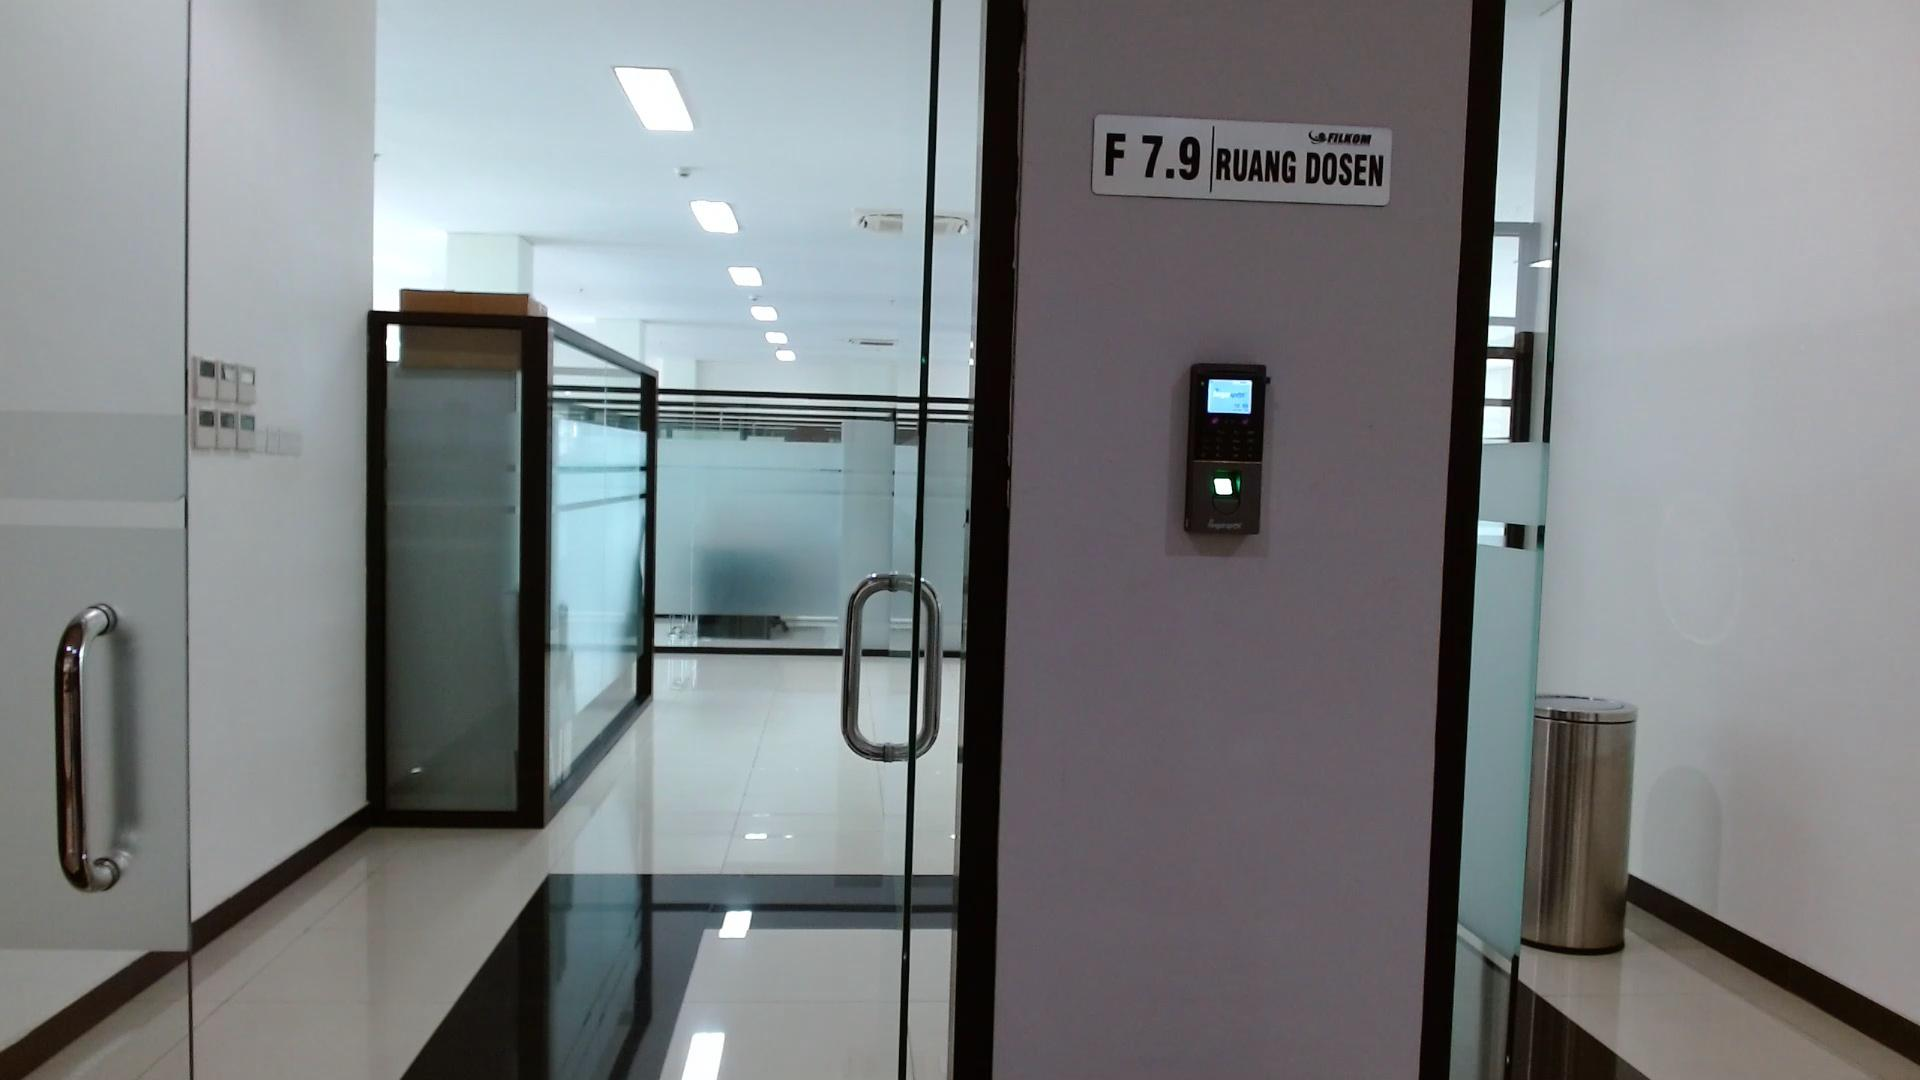plate: (1092, 112, 1393, 206)
